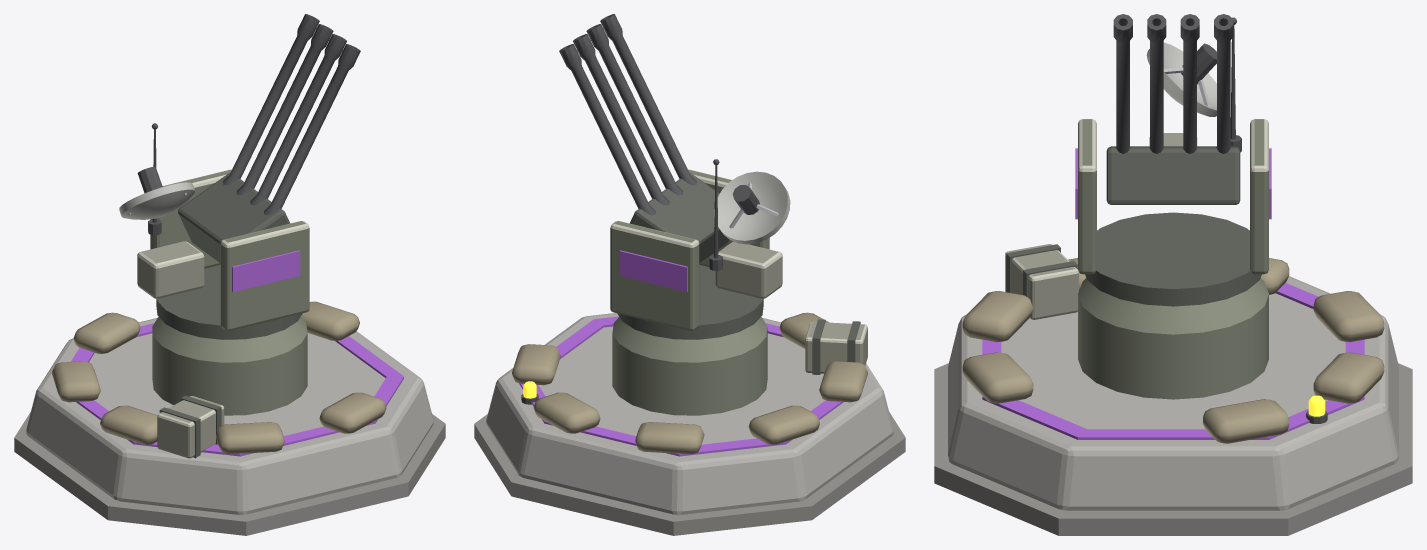
Rendered from flak_cannon_purple.glb.
3 renders of one model, left to right at view 1: azimuth 30°, elevation 25°; view 2: azimuth 150°, elevation 25°; view 3: azimuth 270°, elevation 25°, orthographic. The views are drawn at different scales.
Parts seen in each view (by area): view 1: Body, Turret, Barrel; view 2: Body, Turret, Barrel; view 3: Body, Turret, Barrel.
Part boxes in pixels (left/top/right/bottom): Body: left=14, top=301, right=445, bottom=535; Turret: left=119, top=123, right=309, bottom=339; Barrel: left=223, top=14, right=360, bottom=215; Body: left=474, top=312, right=905, bottom=535; Turret: left=610, top=159, right=790, bottom=339; Barrel: left=559, top=14, right=696, bottom=215; Body: left=934, top=244, right=1412, bottom=535; Turret: left=1075, top=17, right=1271, bottom=306; Barrel: left=1113, top=14, right=1233, bottom=153.
Bounding box in the file's own units: 2 × 2.21 × 2.
1 material, 1 textured.
